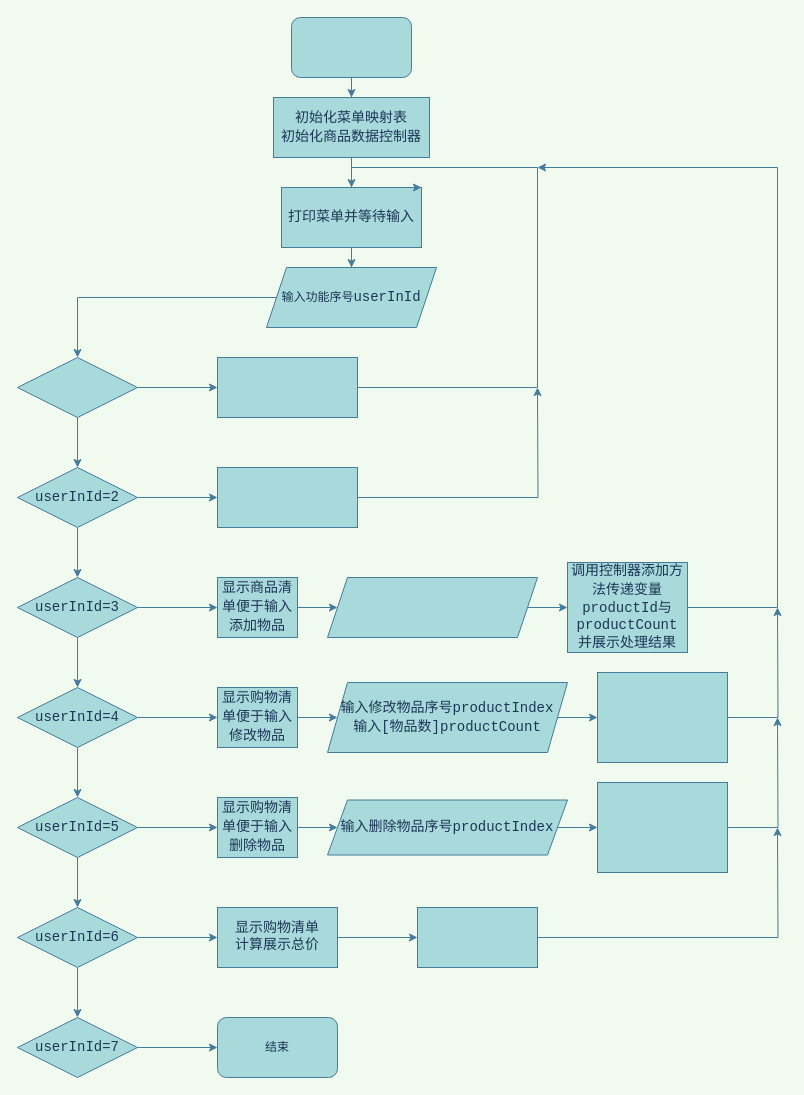
The diagram is 804 pixels wide and 1095 high, and some of its shapes have lost their labels. The shapes that lost their labels are listed below. From the top down, each one's centre as x and y in pixels, then its label:
At (x=351, y=47): "开始".
At (x=77, y=387): "userInId=1".
At (x=287, y=387): "从商品控制器获得的商品列表并 遍历展示".
At (x=287, y=497): "从商品控制器获得的购物列表并 遍历展示".
At (x=432, y=607): "输入物品序号 productId 输入[物品数] productCount".
At (x=662, y=717): "调用控制器修改方法传递变量 productIndex 与 productCount 并展示 处理结果".
At (x=662, y=827): "调用控制器删除方法传递变量 productIndex 并展示 处理结果".
At (x=477, y=937): "调用控制器清空购物清单方法".
